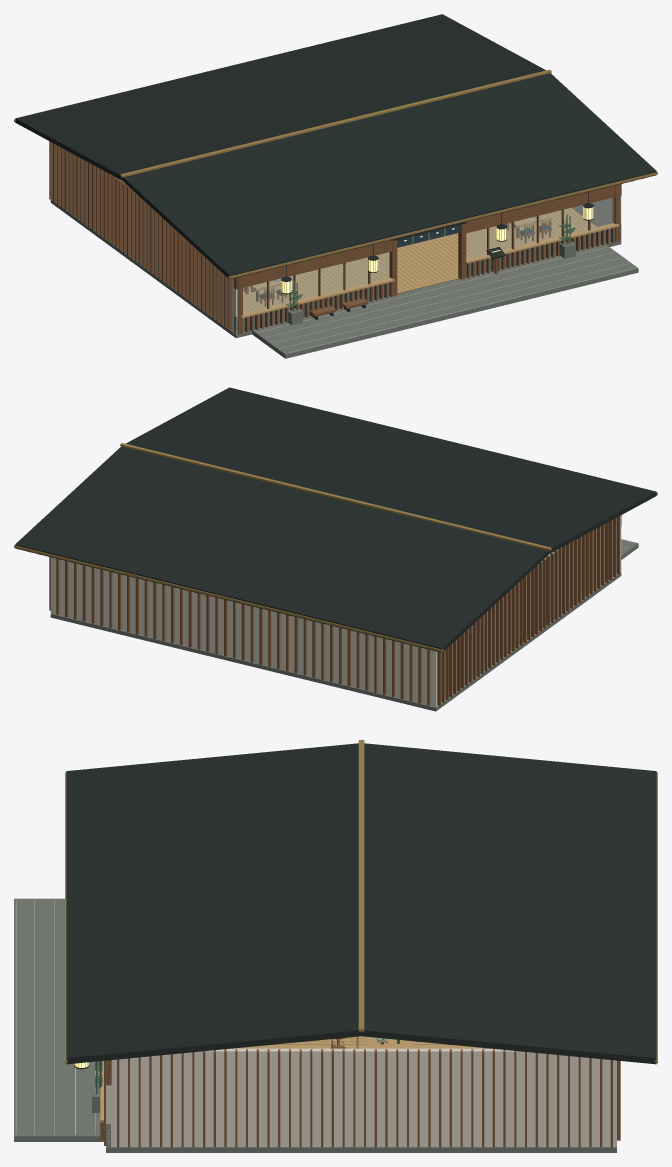
The model's file is sushi.glb.
The picture shows the model from 3 angles, top to bottom: view 1: azimuth 30°, elevation 25°; view 2: azimuth 150°, elevation 25°; view 3: azimuth 270°, elevation 25°; orthographic projection. The views are drawn at different scales.
Parts seen in each view (by area): view 1: MoriSushi-dark, MoriSushi-cedar, MoriSushi-stone, MoriSushi-hinoki, MoriSushi-glass, MoriSushi-plaster, MoriSushi-bronze, MoriSushi-indigo, MoriSushi-paper; view 2: MoriSushi-dark, MoriSushi-cedar, MoriSushi-plaster, MoriSushi-bronze, MoriSushi-stone; view 3: MoriSushi-dark, MoriSushi-plaster, MoriSushi-stone, MoriSushi-cedar, MoriSushi-bronze, MoriSushi-hinoki.
Boxes of the visible parts, left/top/right/bottom form: MoriSushi-dark: left=15, top=14, right=656, bottom=319; MoriSushi-cedar: left=49, top=141, right=643, bottom=333; MoriSushi-stone: left=50, top=199, right=638, bottom=358; MoriSushi-hinoki: left=240, top=208, right=619, bottom=318; MoriSushi-glass: left=243, top=197, right=613, bottom=313; MoriSushi-plaster: left=52, top=143, right=634, bottom=353; MoriSushi-bronze: left=14, top=69, right=657, bottom=293; MoriSushi-indigo: left=260, top=224, right=549, bottom=297; MoriSushi-paper: left=281, top=207, right=593, bottom=293; MoriSushi-dark: left=15, top=387, right=656, bottom=652; MoriSushi-cedar: left=28, top=515, right=621, bottom=705; MoriSushi-plaster: left=50, top=515, right=634, bottom=707; MoriSushi-bronze: left=14, top=443, right=657, bottom=652; MoriSushi-stone: left=50, top=539, right=638, bottom=711; MoriSushi-dark: left=66, top=743, right=656, bottom=1069; MoriSushi-plaster: left=16, top=900, right=616, bottom=1146; MoriSushi-stone: left=14, top=898, right=616, bottom=1152; MoriSushi-cedar: left=100, top=1038, right=620, bottom=1147; MoriSushi-bronze: left=65, top=740, right=657, bottom=1067; MoriSushi-hinoki: left=100, top=1036, right=483, bottom=1122.
Size of the model in its own units: 26.75 by 5.99 by 25.2.
